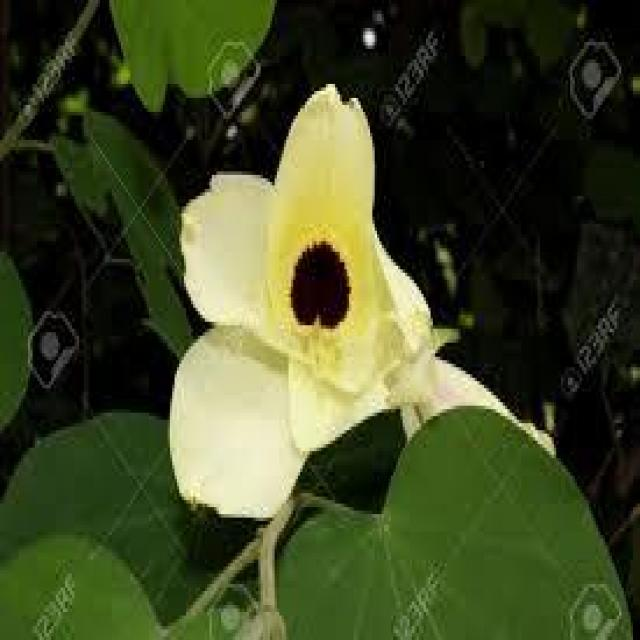organic waste: (173, 103, 425, 509)
